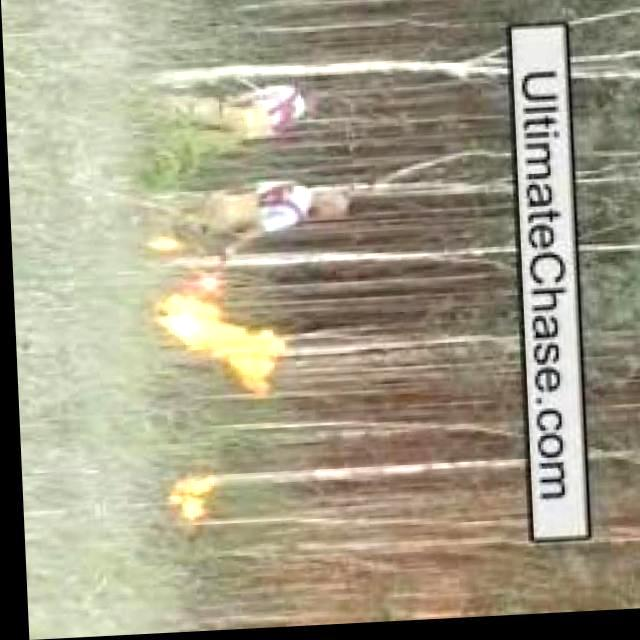fire: (150, 299, 276, 401), (162, 476, 206, 528)
